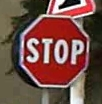stop: (16, 11, 90, 87)
